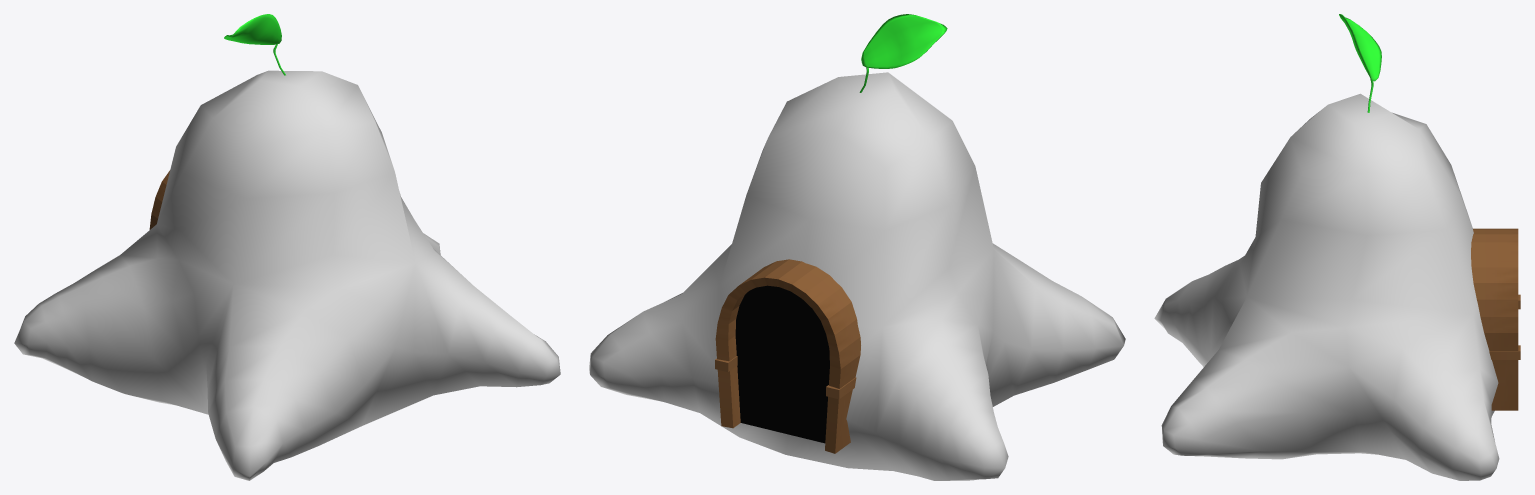
File: CASAKOKIRI1 (3).fbx
3 renders of one model, left to right at view 1: azimuth 30°, elevation 25°; view 2: azimuth 150°, elevation 25°; view 3: azimuth 270°, elevation 25°, orthographic. The views are drawn at different scales.
Parts seen in each view (by area): view 1: Plane, Circle; view 2: Plane, Cylinder, Circle; view 3: Plane, Cylinder, Circle.
Boxes of the visible parts, x1=… form: Plane: x1=14, y1=70, x2=560, y2=480; Circle: x1=224, y1=14, x2=285, y2=75; Plane: x1=589, y1=72, x2=1125, y2=480; Cylinder: x1=715, y1=259, x2=860, y2=453; Circle: x1=859, y1=14, x2=947, y2=92; Plane: x1=1154, y1=93, x2=1499, y2=480; Cylinder: x1=1471, y1=228, x2=1520, y2=410; Circle: x1=1339, y1=14, x2=1381, y2=112.
Bounding box in the file's own units: 2480 × 2359 × 1985.
